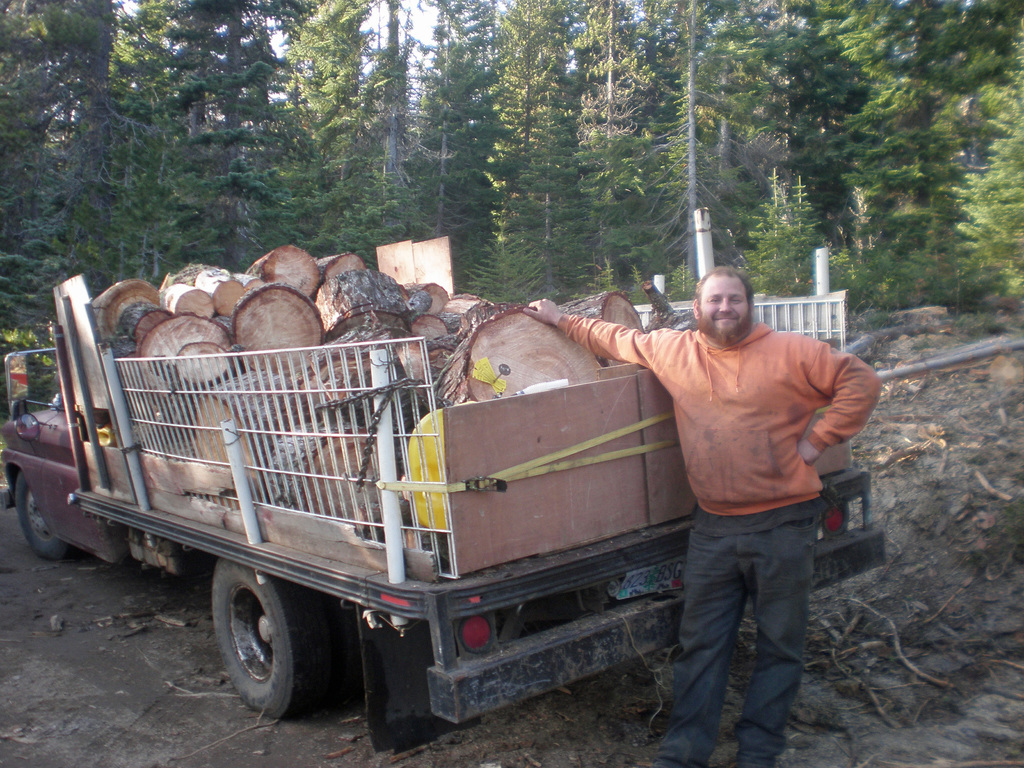Tree: (0, 0, 1023, 419)
